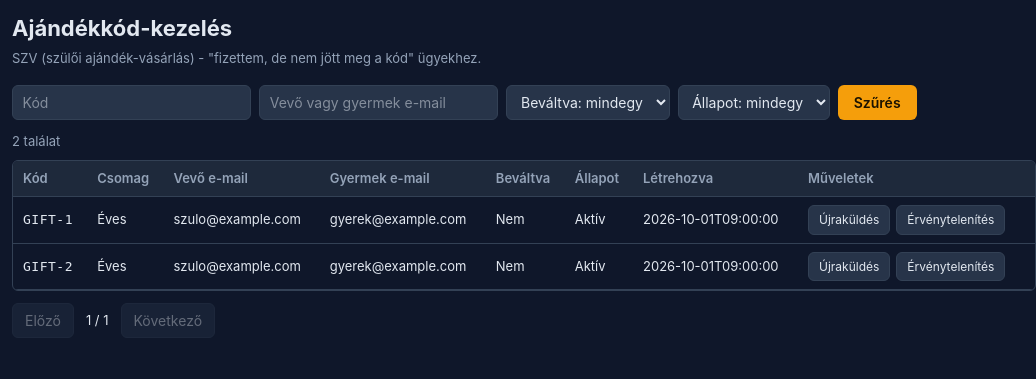
GiftCouponsComponent › újraküldés: mindkét címre kéri, a sor alatt jelzi, kinek ment el; közben a sor gombjai tiltottak
Click the button "Újraküldés" in the row of "GIFT-1" at (849, 220), box x1=808 y1=205 x2=890 y2=235
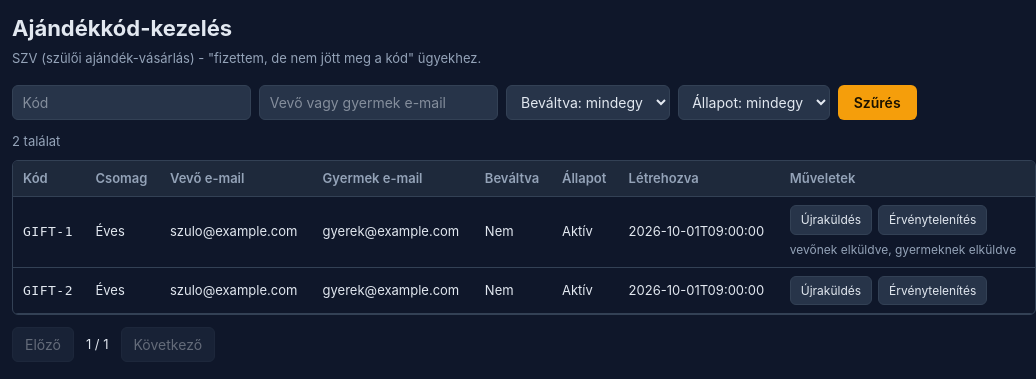
Check: the text with class "row-message" reads "vevőnek elküldve, gyermeknek elküldve", box x1=790 y1=242 x2=1016 y2=257
